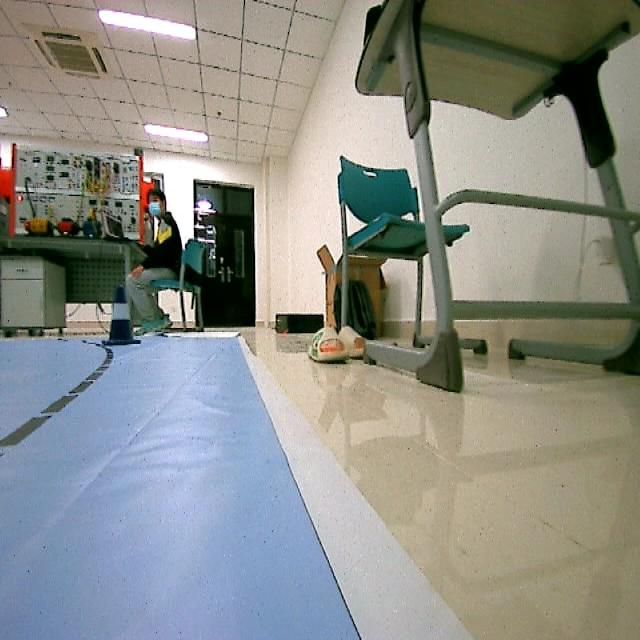obstacle: (104, 283, 138, 347)
